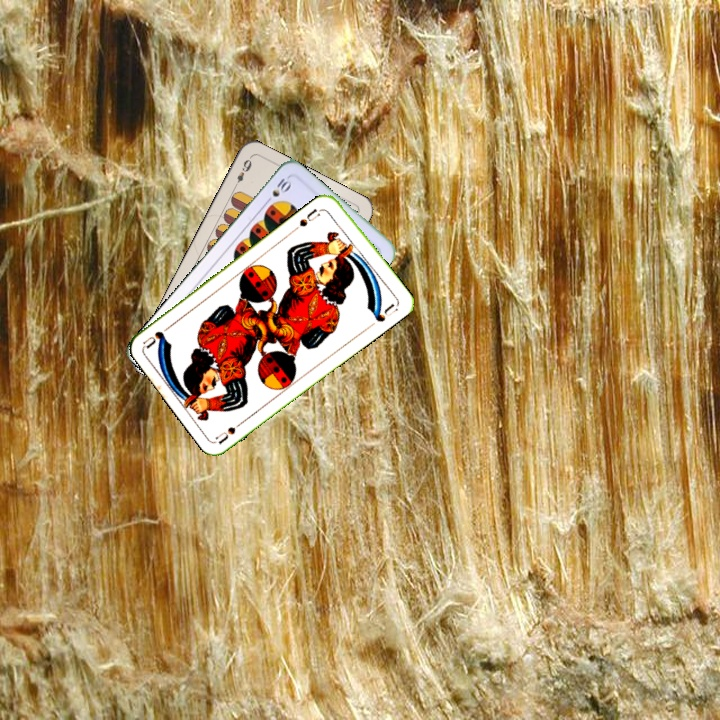E9: (229, 155, 254, 191)
S10: (261, 173, 294, 207)
SU: (212, 415, 249, 446), (295, 204, 323, 229)
